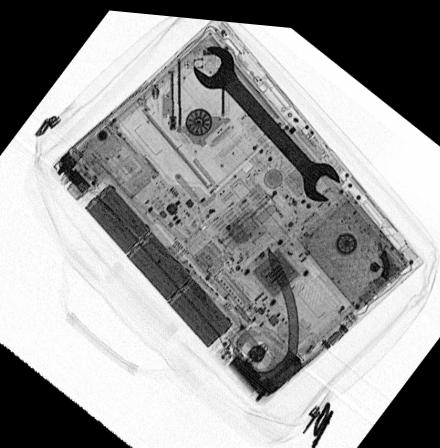Wrench: (191, 41, 338, 196)
